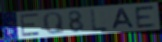8: (67, 10, 86, 34)
A: (111, 7, 136, 31)
E: (133, 5, 157, 30), (19, 12, 42, 38)
L: (89, 8, 110, 33)
Q: (42, 11, 67, 35)
